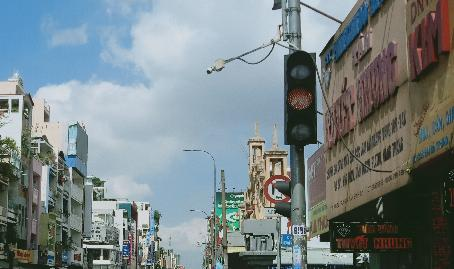yellow_light: (284, 50, 317, 145)
